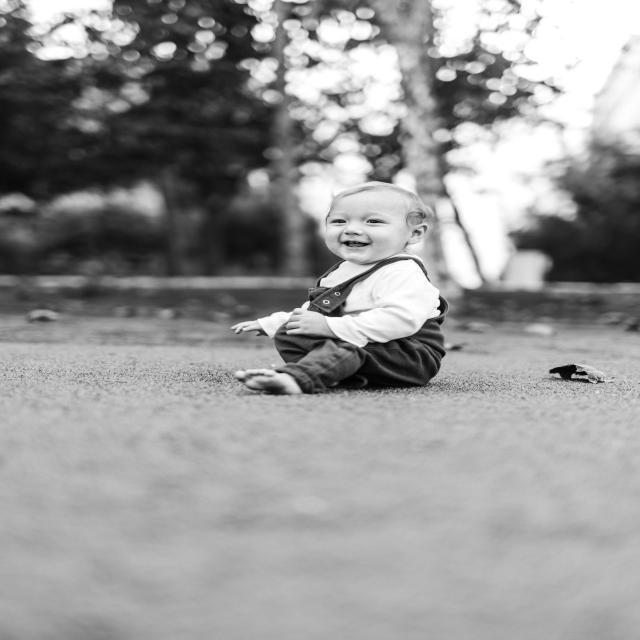non-dog: (231, 183, 449, 397)
